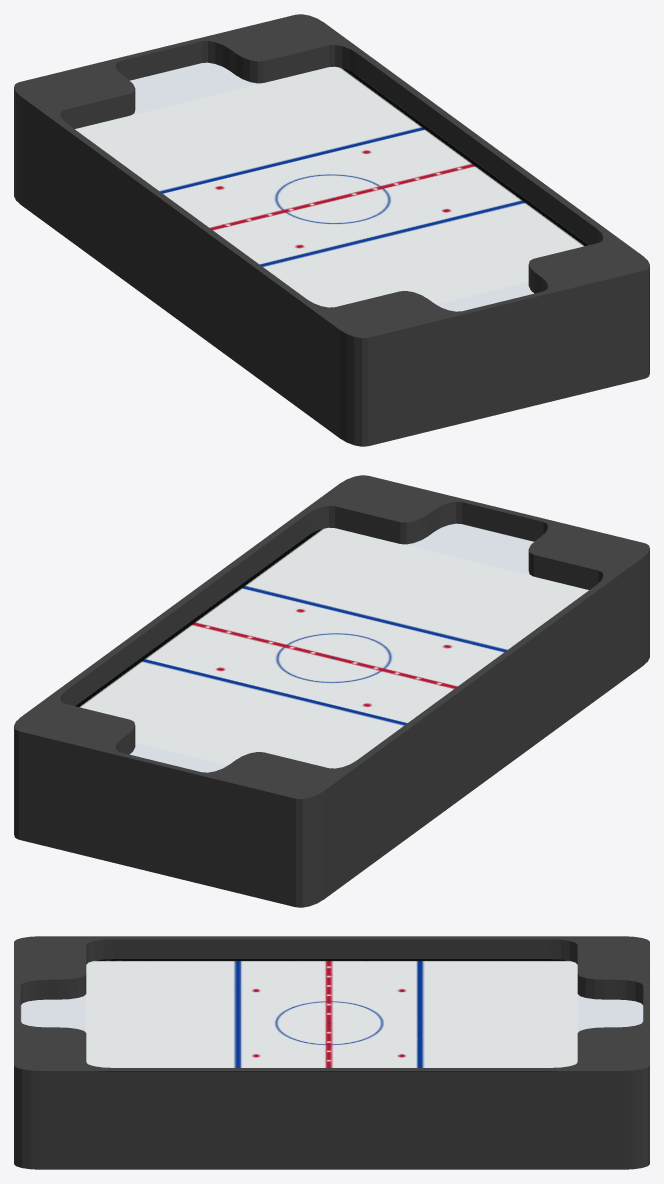
File: HockeyBoard.fbx
3 views of the same model, one above another, from view 1: azimuth 30°, elevation 25°; view 2: azimuth 150°, elevation 25°; view 3: azimuth 270°, elevation 25° (orthographic). The views are drawn at different scales.
Parts seen in each view (by area): view 1: HockeyBoard; view 2: HockeyBoard; view 3: HockeyBoard.
Boxes of the visible parts, x1,y1,x2,y2 form: HockeyBoard: [14, 14, 649, 446]; HockeyBoard: [14, 475, 649, 907]; HockeyBoard: [14, 936, 649, 1169].
Bounding box in the file's own units: 115 × 39.47 × 230.
